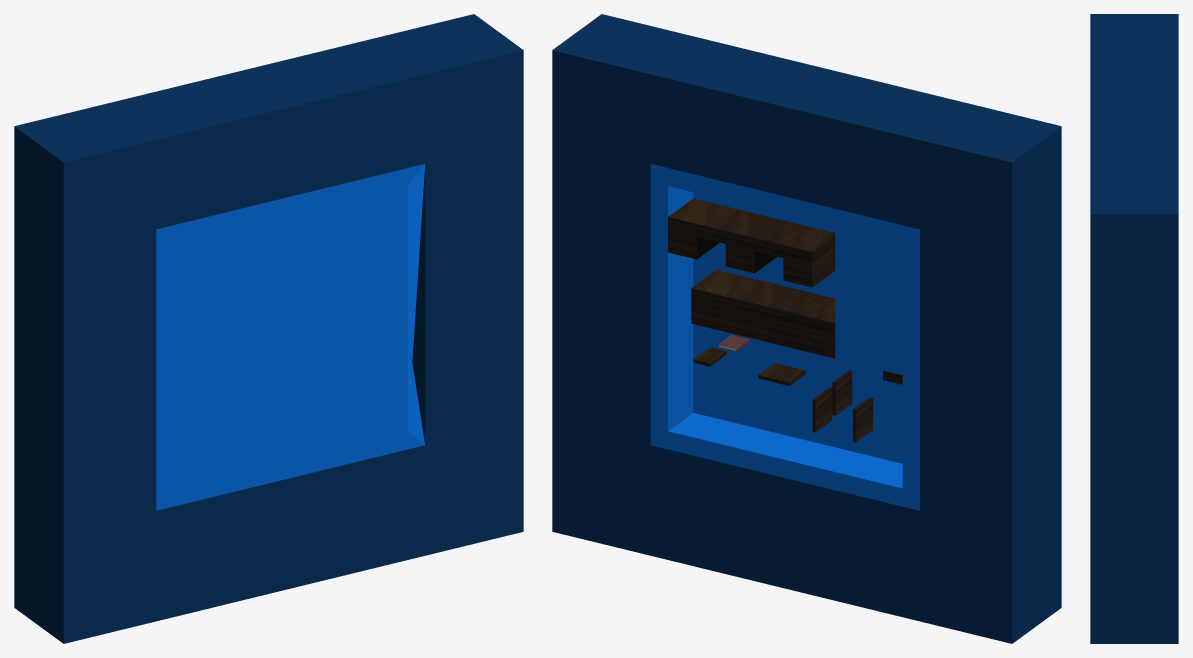
The model's file is FaceF2.glb.
3 renders of one model, left to right at view 1: azimuth 30°, elevation 25°; view 2: azimuth 150°, elevation 25°; view 3: azimuth 270°, elevation 25°, orthographic. The views are drawn at different scales.
Visible parts, largest first — view 1: paredeTRUETRUE-col.007, PlanoTrue-col.006; view 2: paredeTRUETRUE-col.007, PlanoTrue-col.006, Cubo-col.011, Cubo.001-col, Cubo-col.014, Cubo-col.013, Cubo-col.015; view 3: paredeTRUETRUE-col.007.
Part boxes in pixels (x1=…): paredeTRUETRUE-col.007: x1=14, y1=14, x2=523, y2=643; PlanoTrue-col.006: x1=156, y1=164, x2=425, y2=510; paredeTRUETRUE-col.007: x1=552, y1=14, x2=1061, y2=643; PlanoTrue-col.006: x1=650, y1=164, x2=919, y2=510; Cubo-col.011: x1=668, y1=198, x2=835, y2=287; Cubo.001-col: x1=691, y1=269, x2=835, y2=358; Cubo-col.014: x1=812, y1=387, x2=832, y2=432; Cubo-col.013: x1=832, y1=370, x2=852, y2=415; Cubo-col.015: x1=853, y1=397, x2=872, y2=442; paredeTRUETRUE-col.007: x1=1090, y1=14, x2=1178, y2=643.
Size of the model in its own units: 509 by 509 by 95.
Materials: 10 (7 with a texture image).
